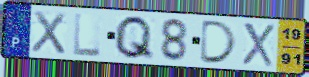8: (159, 17, 190, 63)
D: (198, 19, 240, 65)
L: (73, 12, 103, 58)
Q: (112, 14, 156, 61)
X: (29, 9, 67, 56), (241, 21, 276, 69)
